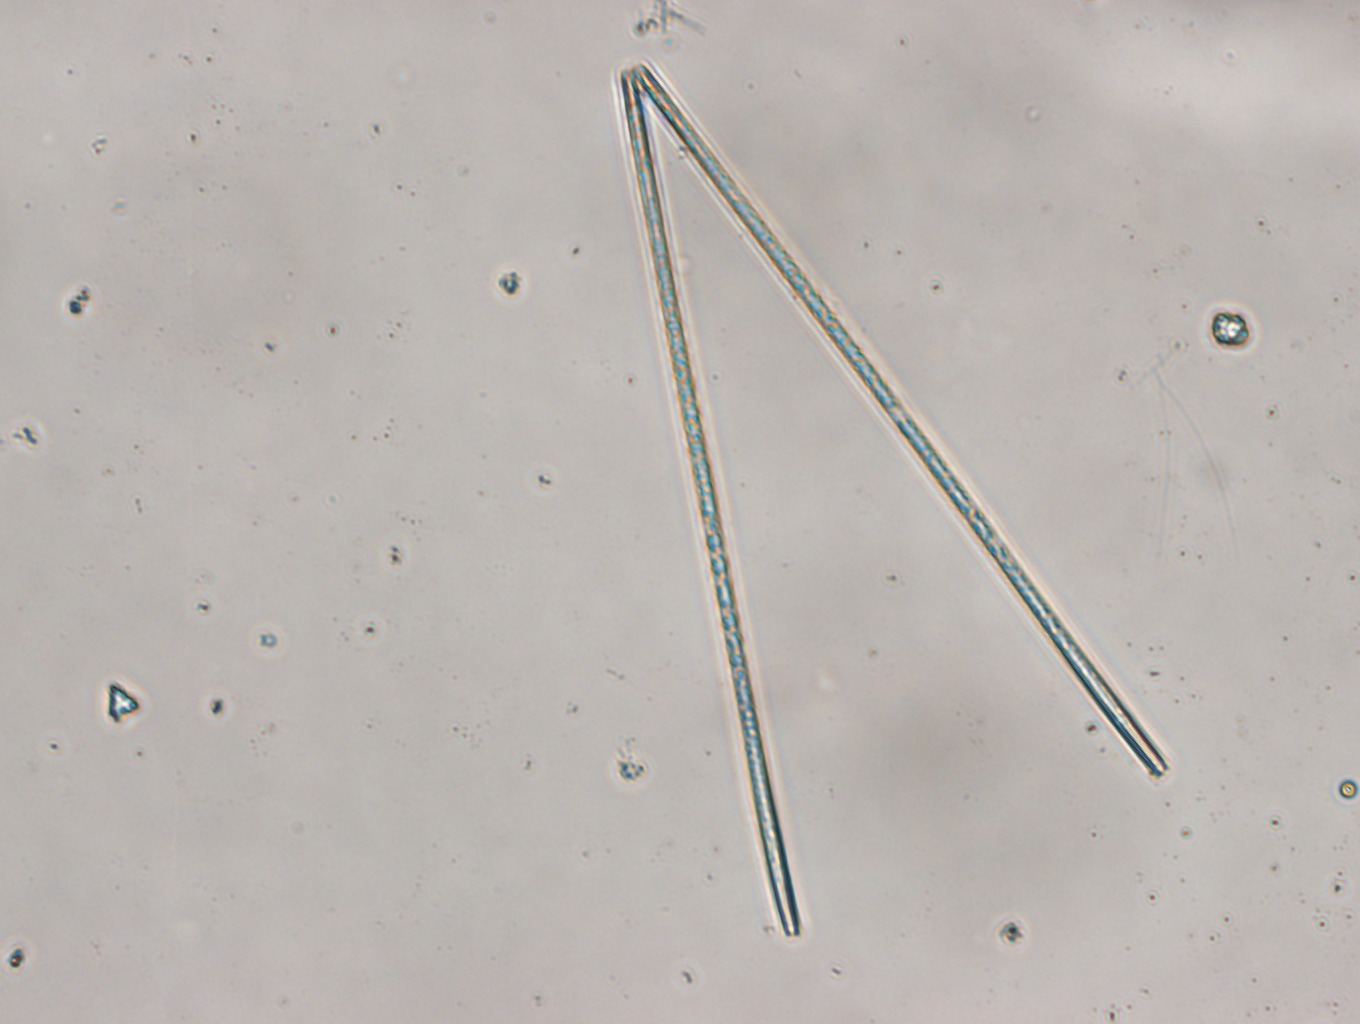thalassionema frauenfeldii: (620, 66, 1169, 941)
